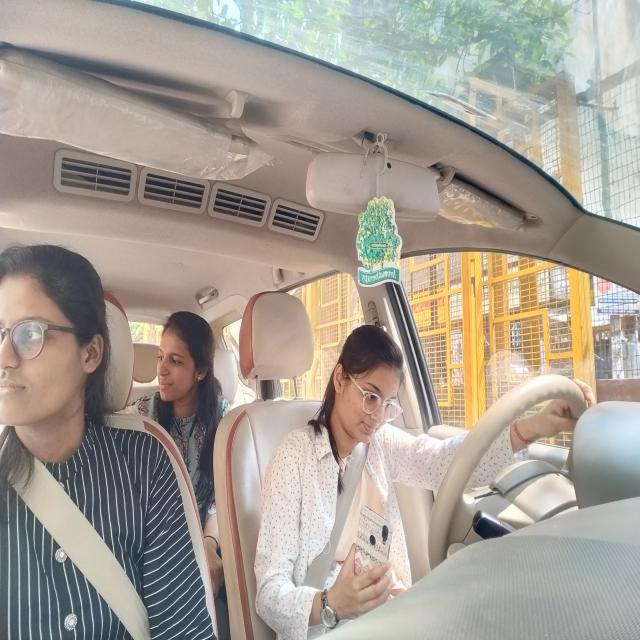mobile: (341, 508, 404, 617)
person: (0, 216, 116, 498), (326, 320, 410, 466), (152, 292, 218, 432)
